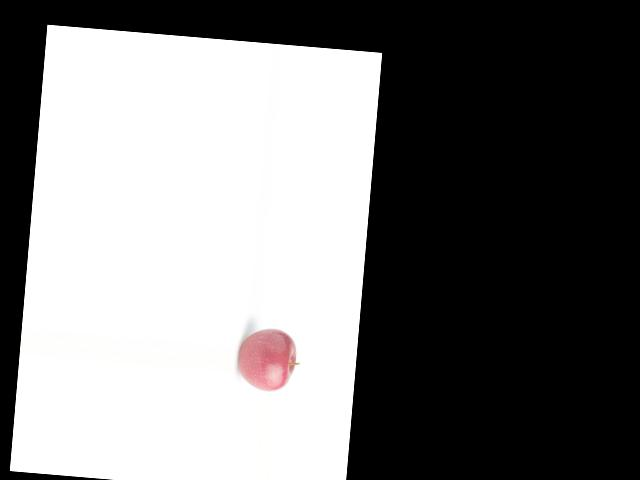apple: (234, 324, 303, 394)
